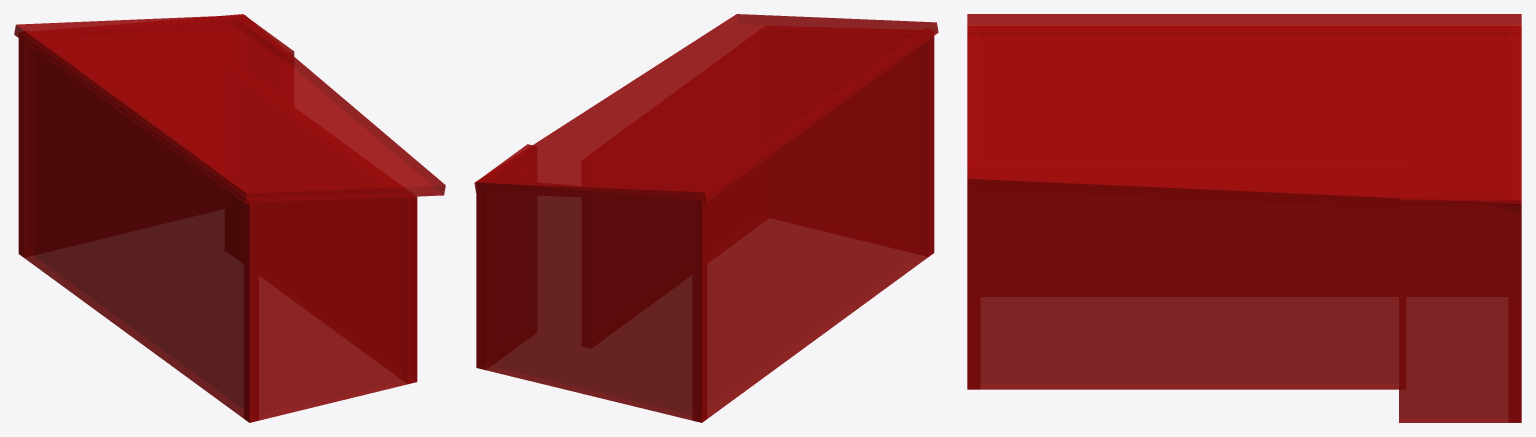
Rendered from SM_Bld_Shack_01_Collision.fbx.
3 views of the same model, side by side, from view 1: azimuth 30°, elevation 25°; view 2: azimuth 150°, elevation 25°; view 3: azimuth 270°, elevation 25° (orthographic). The views are drawn at different scales.
Visible parts, largest first — view 1: SM_Bld_Shack_01_Collision; view 2: SM_Bld_Shack_01_Collision; view 3: SM_Bld_Shack_01_Collision.
Part boxes in pixels (x1,y1,x2,y2): SM_Bld_Shack_01_Collision: [14, 14, 445, 422]; SM_Bld_Shack_01_Collision: [474, 14, 938, 422]; SM_Bld_Shack_01_Collision: [967, 14, 1521, 422].
Size of the model in its own units: 299 by 284 by 518.
